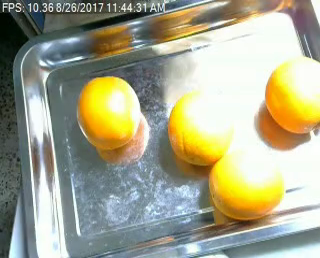Orange: (209, 150, 287, 220), (168, 93, 233, 167), (75, 76, 140, 149), (264, 57, 320, 134)
